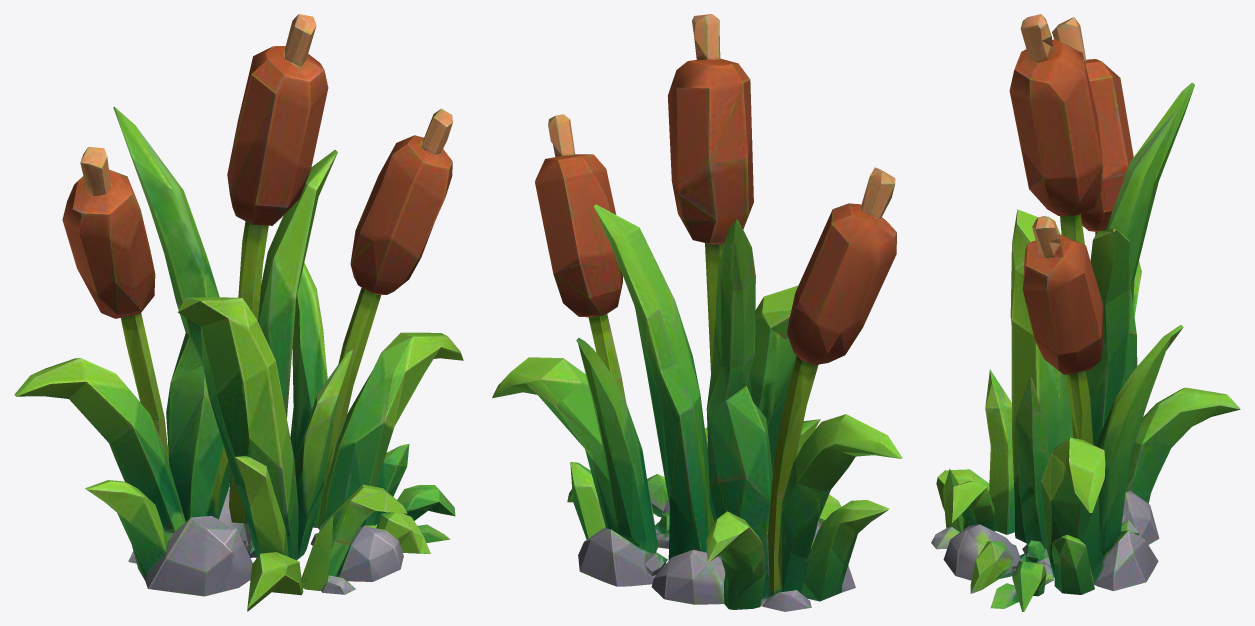
Rendered from water_reeds_mobile.glb.
The picture shows the model from 3 angles, left to right: view 1: azimuth 30°, elevation 25°; view 2: azimuth 150°, elevation 25°; view 3: azimuth 270°, elevation 25°; orthographic projection.
Visible parts, largest first — view 1: output_unwrapped; view 2: output_unwrapped; view 3: output_unwrapped.
Boxes of the visible parts, x1,y1,x2,y2 form: output_unwrapped: (14,14,463,611); output_unwrapped: (492,14,902,611); output_unwrapped: (931,14,1240,611).
Bounding box in the file's own units: 1.59 × 1.9 × 1.
Materials: 1 (1 with a texture image).
